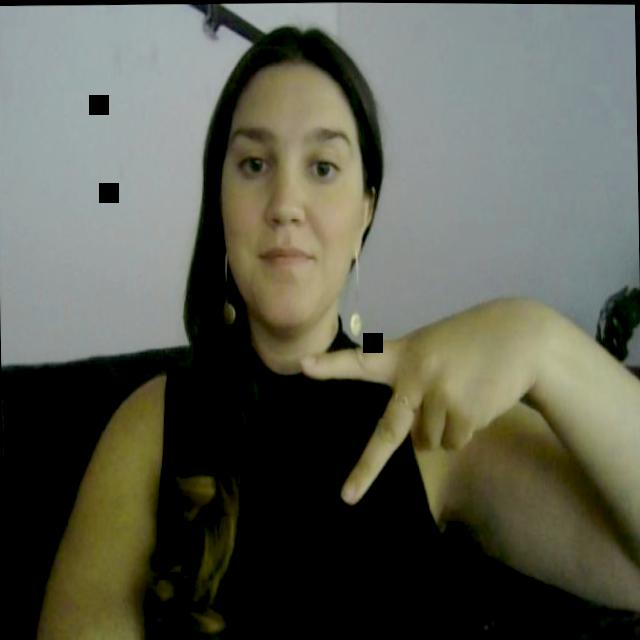Scissors: (280, 291, 566, 507)
